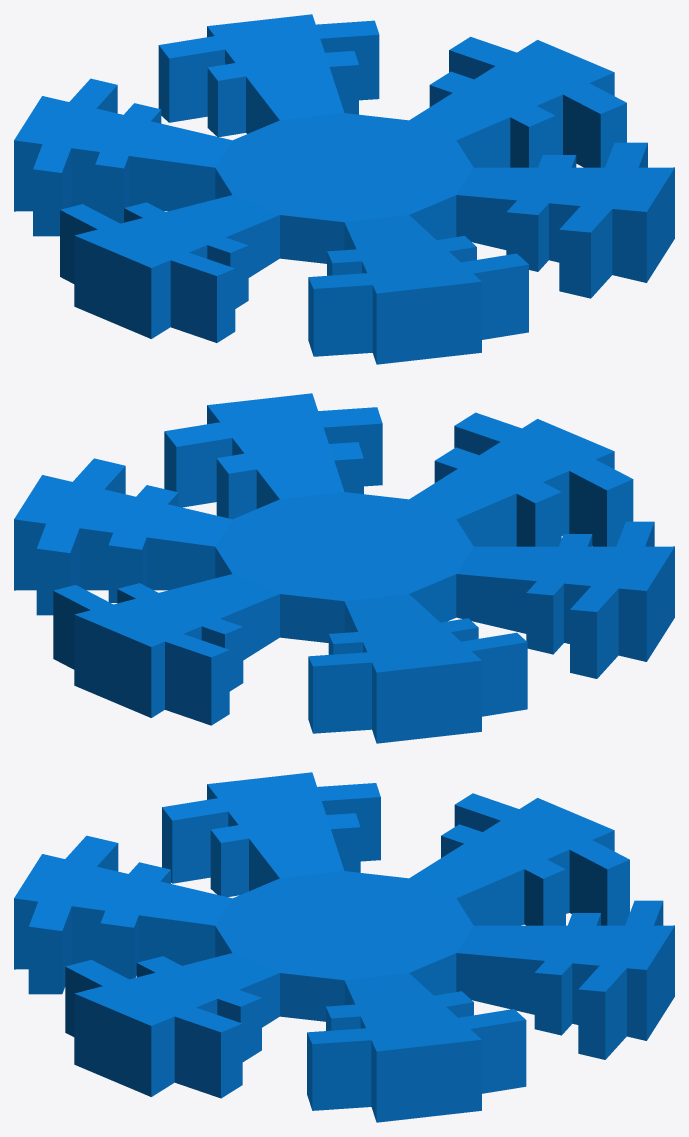
File: snowflake.fbx
The picture shows the model from 3 angles, top to bottom: view 1: azimuth 30°, elevation 25°; view 2: azimuth 150°, elevation 25°; view 3: azimuth 270°, elevation 25°; orthographic projection.
Parts seen in each view (by area): view 1: Cylinder; view 2: Cylinder; view 3: Cylinder.
Part boxes in pixels (x1,y1,x2,y2): Cylinder: [14, 14, 674, 364]; Cylinder: [14, 393, 674, 743]; Cylinder: [14, 772, 674, 1122].
Size of the model in its own units: 0.9454 by 0.1123 by 0.9454.
